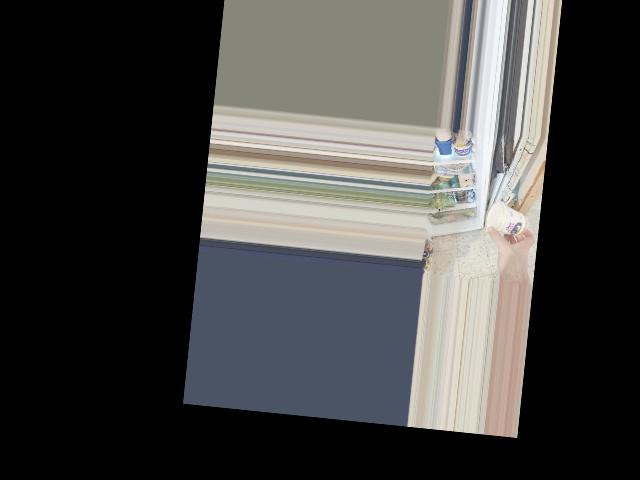cotage: (493, 200, 527, 240)
